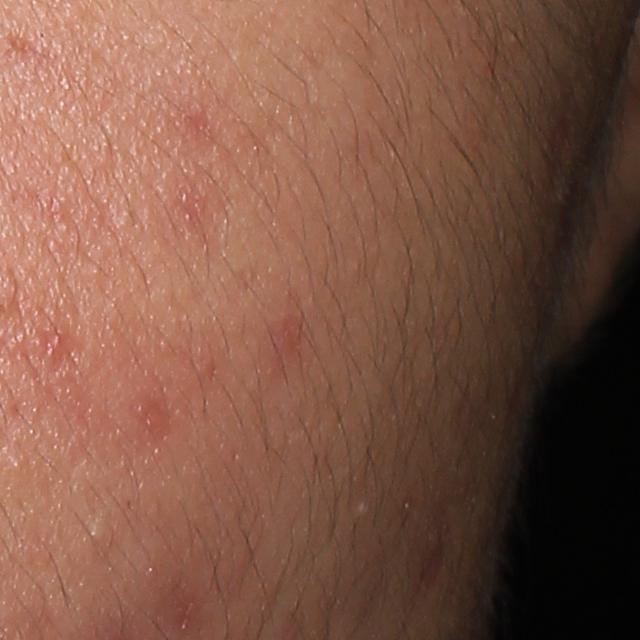comedo: (84, 519, 109, 546)
